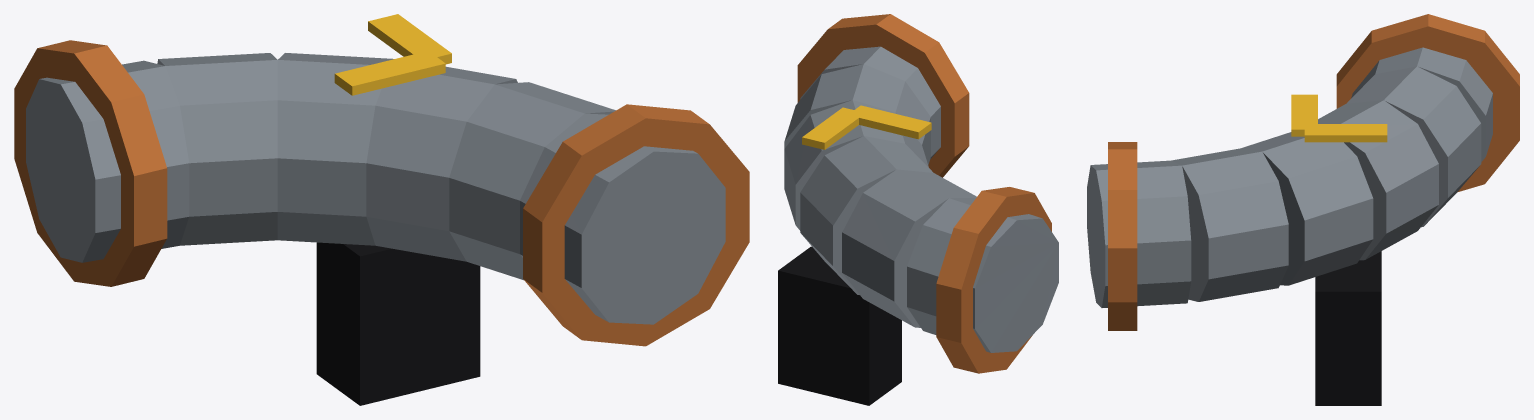
File: pipe_corner_r.obj
3 views of the same model, side by side, from view 1: azimuth 30°, elevation 25°; view 2: azimuth 150°, elevation 25°; view 3: azimuth 270°, elevation 25° (orthographic). The views are drawn at different scales.
Visible parts, largest first — view 1: Pipe, Arrows; view 2: Pipe, Arrows; view 3: Pipe, Arrows.
Part boxes in pixels (x1=…): Pipe: x1=14, y1=40, x2=749, y2=405; Arrows: x1=334, y1=14, x2=451, y2=95; Pipe: x1=778, y1=14, x2=1058, y2=405; Arrows: x1=802, y1=105, x2=931, y2=149; Pipe: x1=1087, y1=14, x2=1519, y2=405; Arrows: x1=1291, y1=94, x2=1387, y2=142.
Size of the model in its own units: 0.6516 by 0.445 by 0.6516.
